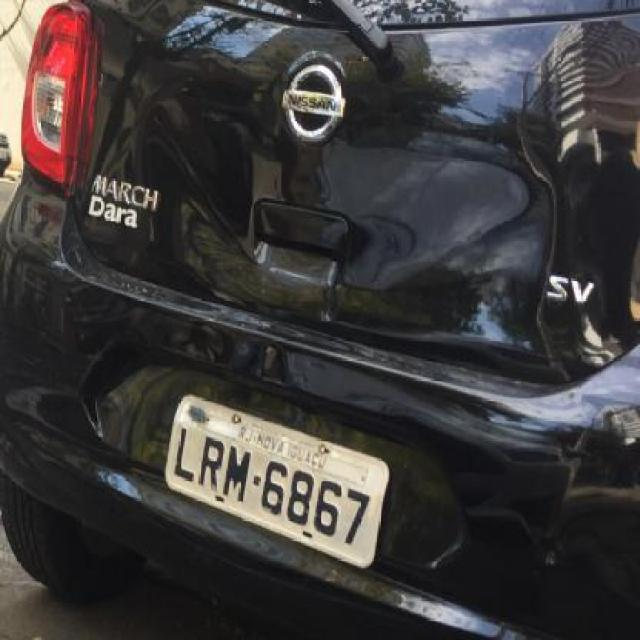old_plate: (160, 388, 397, 577)
